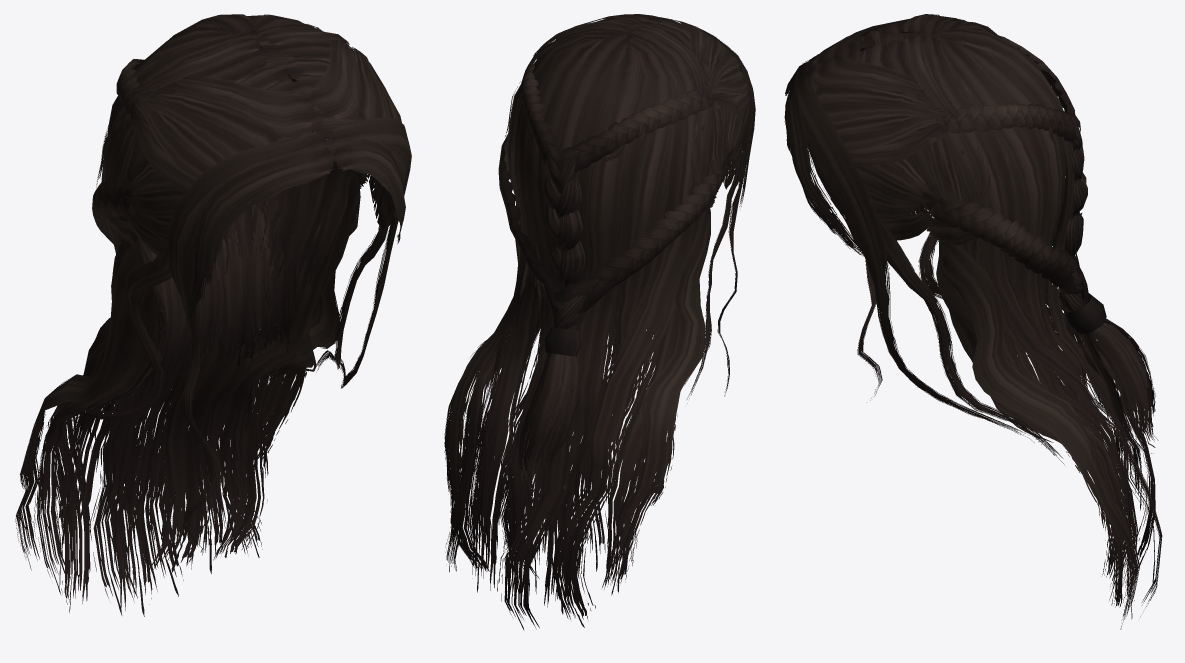
File: hairtest2.fbx
3 views of the same model, side by side, from view 1: azimuth 30°, elevation 25°; view 2: azimuth 150°, elevation 25°; view 3: azimuth 270°, elevation 25° (orthographic). The views are drawn at different scales.
Parts seen in each view (by area): view 1: Hair; view 2: Hair; view 3: Hair.
Boxes of the visible parts, box(x1,y1,x2,y2) form: Hair: box(15, 14, 411, 616); Hair: box(444, 14, 755, 630); Hair: box(784, 14, 1162, 629).
Size of the model in its own units: 21.46 by 48.64 by 28.4.
